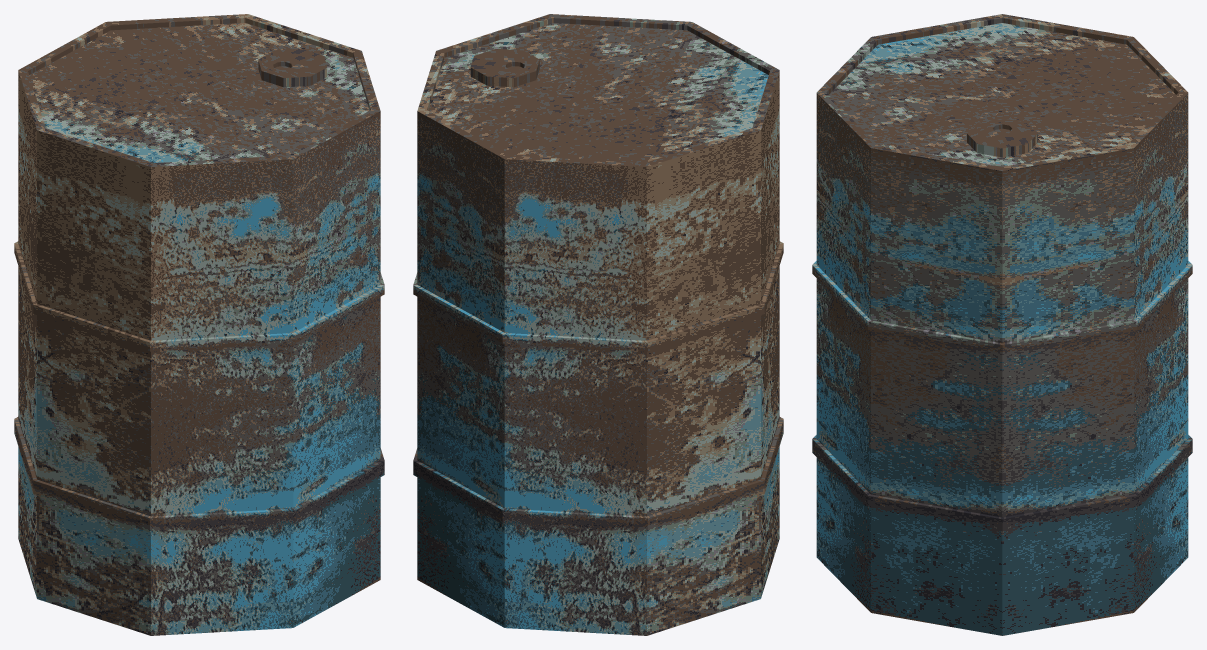
Rendered from Barrel1.glb.
The picture shows the model from 3 angles, left to right: view 1: azimuth 30°, elevation 25°; view 2: azimuth 150°, elevation 25°; view 3: azimuth 270°, elevation 25°; orthographic projection.
Parts seen in each view (by area): view 1: Barrel 1; view 2: Barrel 1; view 3: Barrel 1.
Boxes of the visible parts, <box> form: Barrel 1: <box>14,14,384,635</box>; Barrel 1: <box>413,14,783,635</box>; Barrel 1: <box>812,14,1192,635</box>.
Bounding box in the file's own units: 1.14 × 1.55 × 1.14.
1 material, 1 textured.
